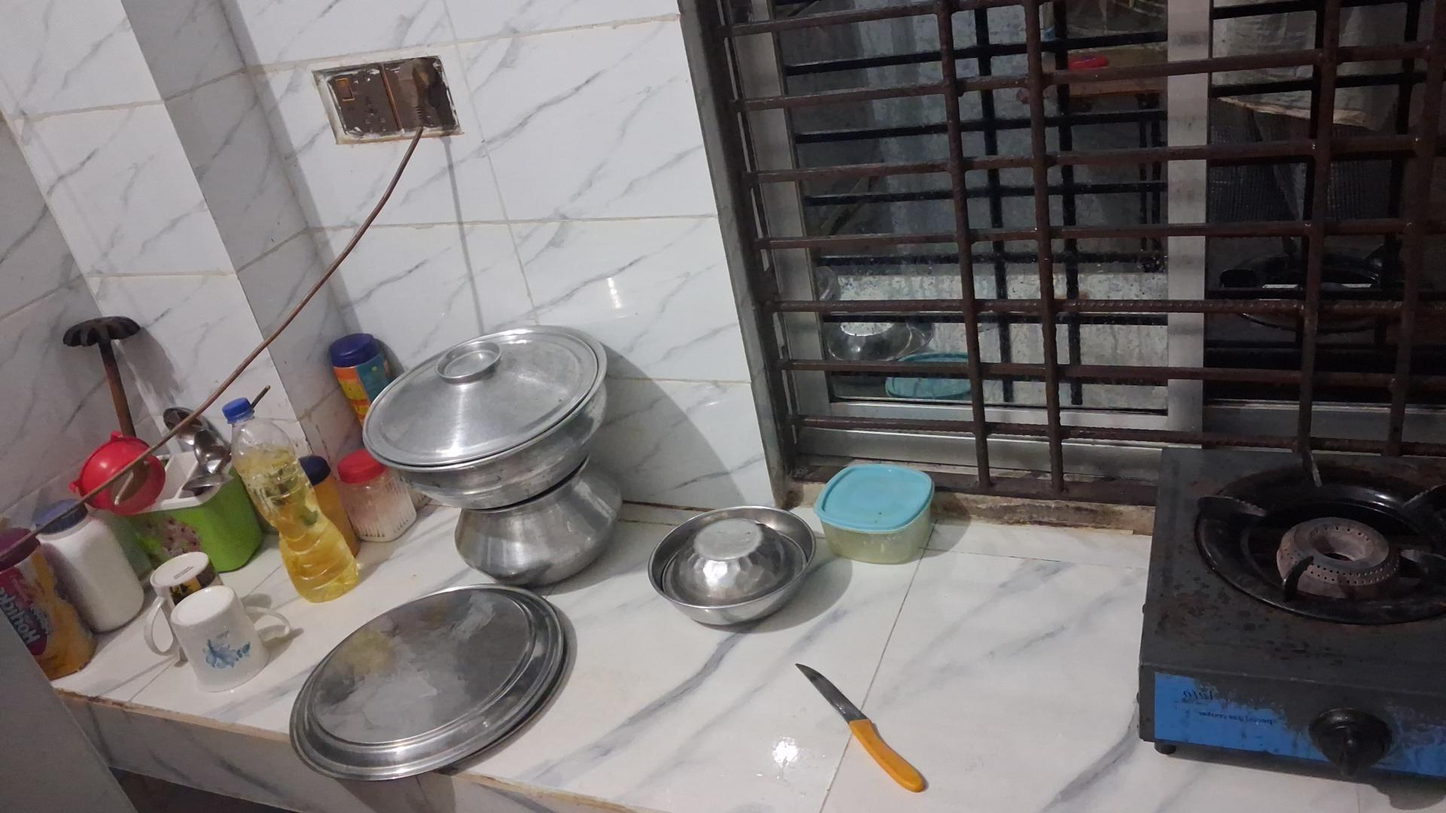Bottle: (223, 409, 366, 601)
Bowl: (650, 507, 813, 627)
Cup: (168, 589, 287, 696)
Jar: (2, 529, 99, 678), (39, 505, 148, 633), (812, 460, 935, 566), (332, 457, 420, 537), (324, 340, 390, 409)
Knife: (796, 661, 924, 794)
Plate: (295, 582, 562, 787)
Pot: (364, 322, 608, 505), (454, 478, 624, 587)
